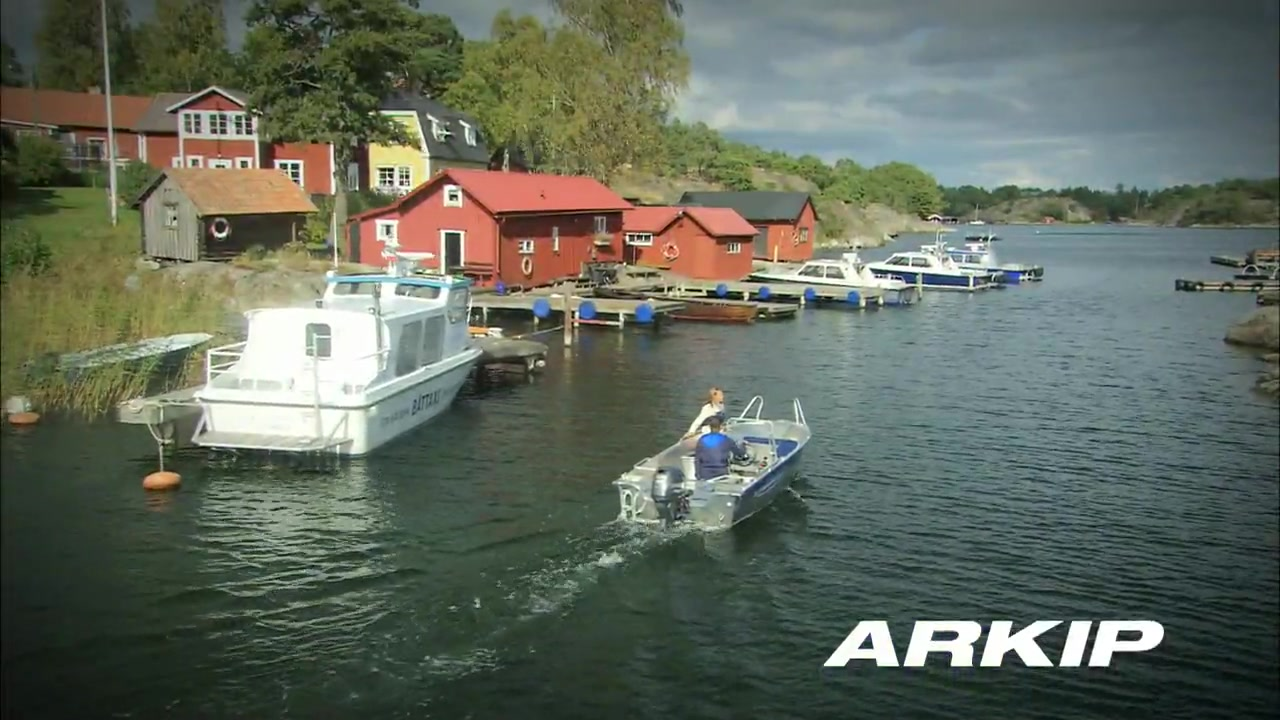boat: (610, 394, 818, 544)
